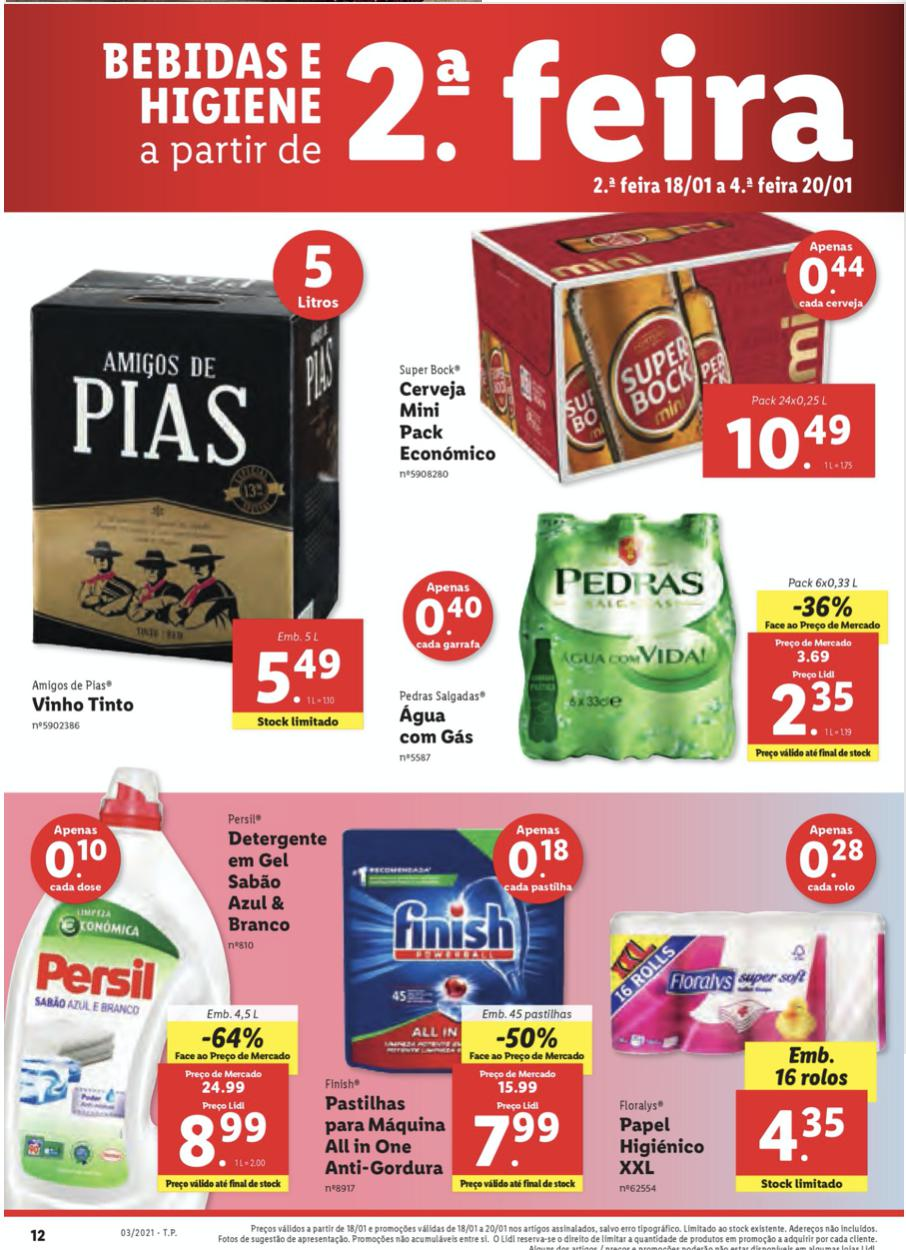name: (325, 1087, 453, 1178), (222, 827, 328, 932), (399, 375, 502, 464), (611, 1112, 713, 1181), (393, 704, 482, 746), (30, 692, 137, 716)
price: (724, 410, 854, 473), (764, 670, 867, 741), (754, 1101, 847, 1166), (468, 1107, 567, 1167), (248, 644, 345, 704), (177, 1110, 273, 1170)
product: (16, 218, 382, 749), (385, 210, 894, 496), (387, 496, 894, 767), (1, 789, 327, 1192), (591, 801, 887, 1186), (316, 810, 591, 1203)
promotion: (785, 593, 859, 627), (493, 1027, 562, 1056), (199, 1027, 271, 1052)
